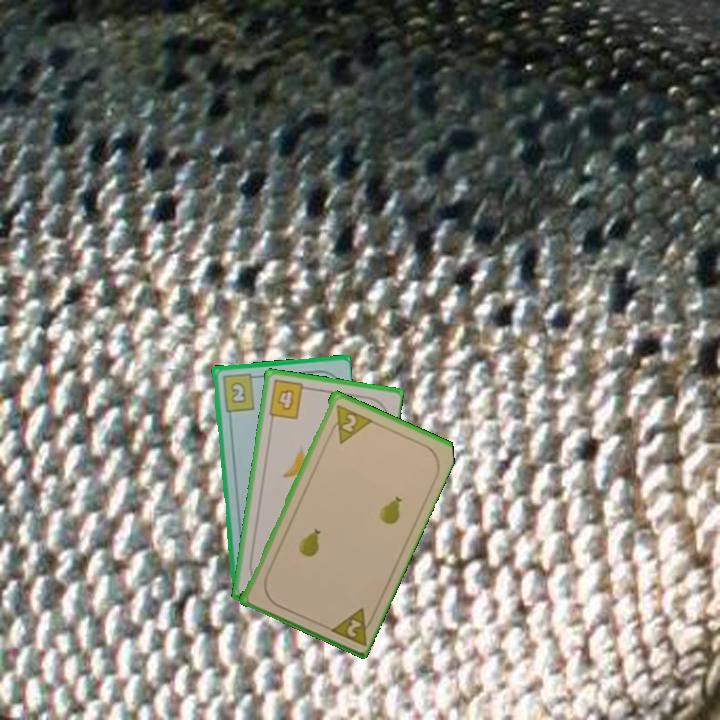2b: (219, 370, 261, 414)
2p: (325, 603, 378, 648), (325, 400, 373, 446)
4b: (265, 376, 312, 422)
